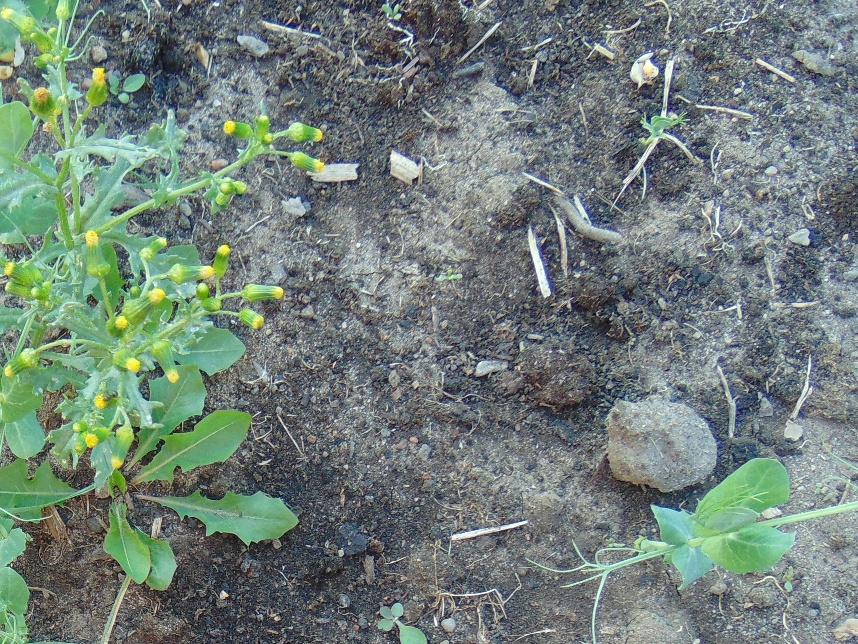crop: (568, 457, 858, 605), (1, 297, 46, 460), (1, 95, 46, 258), (1, 502, 32, 644), (637, 110, 682, 142)
weed: (1, 108, 322, 580), (1, 1, 158, 230)
